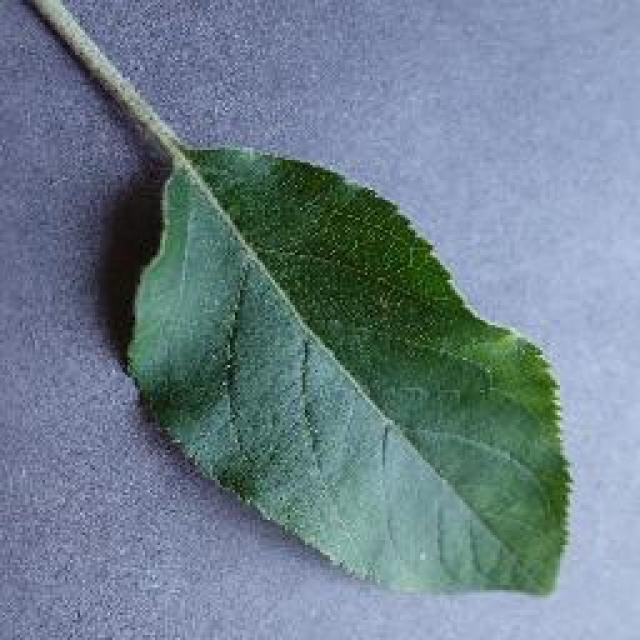apple healthy: (0, 0, 575, 598)
